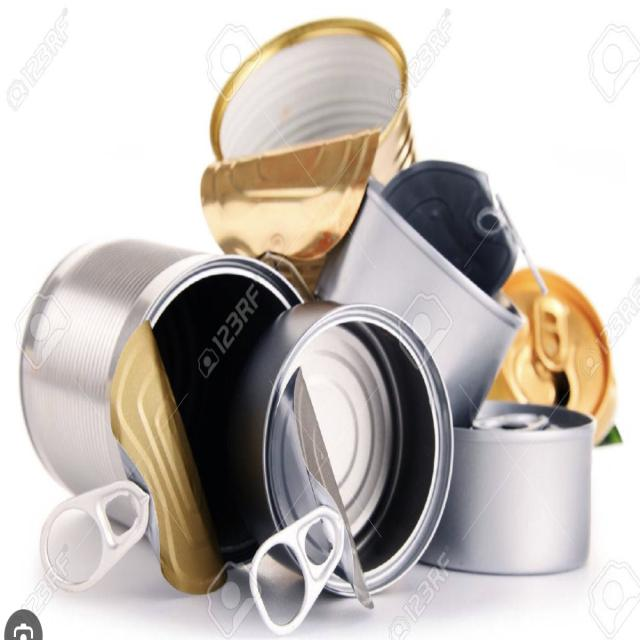recyclable: (16, 209, 297, 590), (238, 266, 460, 637), (196, 2, 422, 268), (481, 241, 622, 440)
